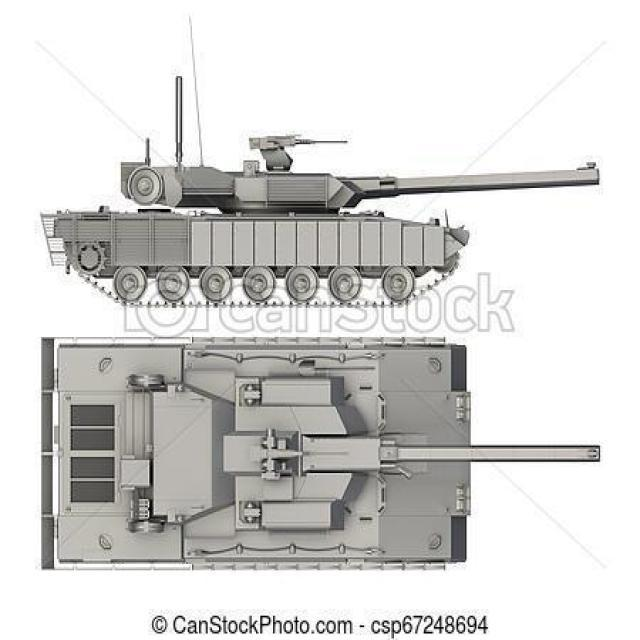MIL_MBT: (28, 336, 611, 584), (37, 74, 610, 309)
